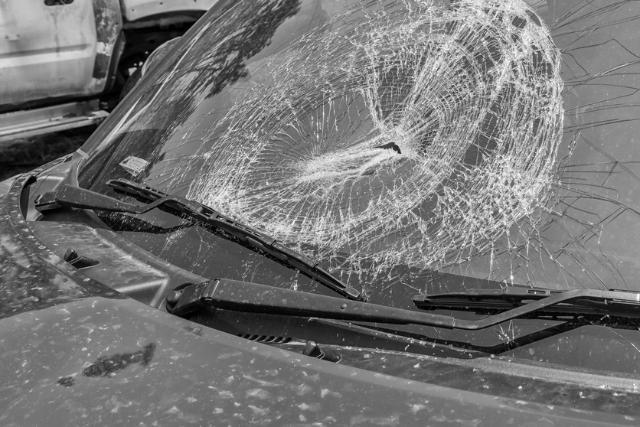Windshield: (126, 0, 640, 311)
